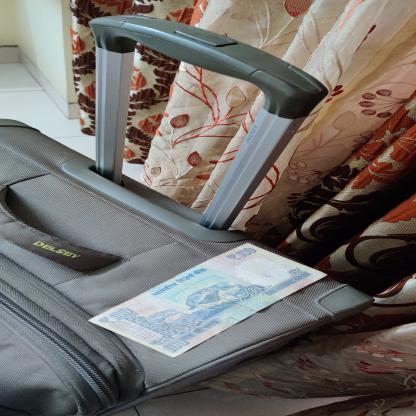Old100Back: (87, 242, 328, 358)
